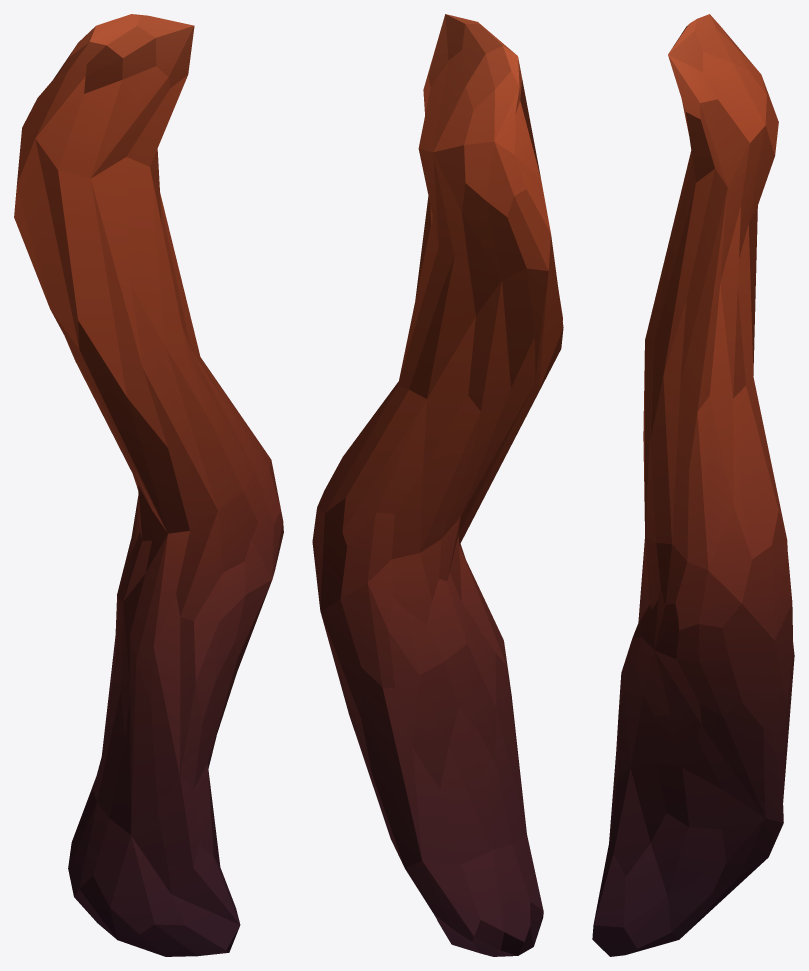
Rendered from 00_twig_01.fbx.
3 views of the same model, side by side, from view 1: azimuth 30°, elevation 25°; view 2: azimuth 150°, elevation 25°; view 3: azimuth 270°, elevation 25° (orthographic). The views are drawn at different scales.
Parts seen in each view (by area): view 1: 00 twig_01; view 2: 00 twig_01; view 3: 00 twig_01.
Part boxes in pixels (<box>): 00 twig_01: <box>14,14,283,956</box>; 00 twig_01: <box>312,14,563,956</box>; 00 twig_01: <box>592,14,794,956</box>.
Bounding box in the file's own units: 20.56 × 75.86 × 15.18.
